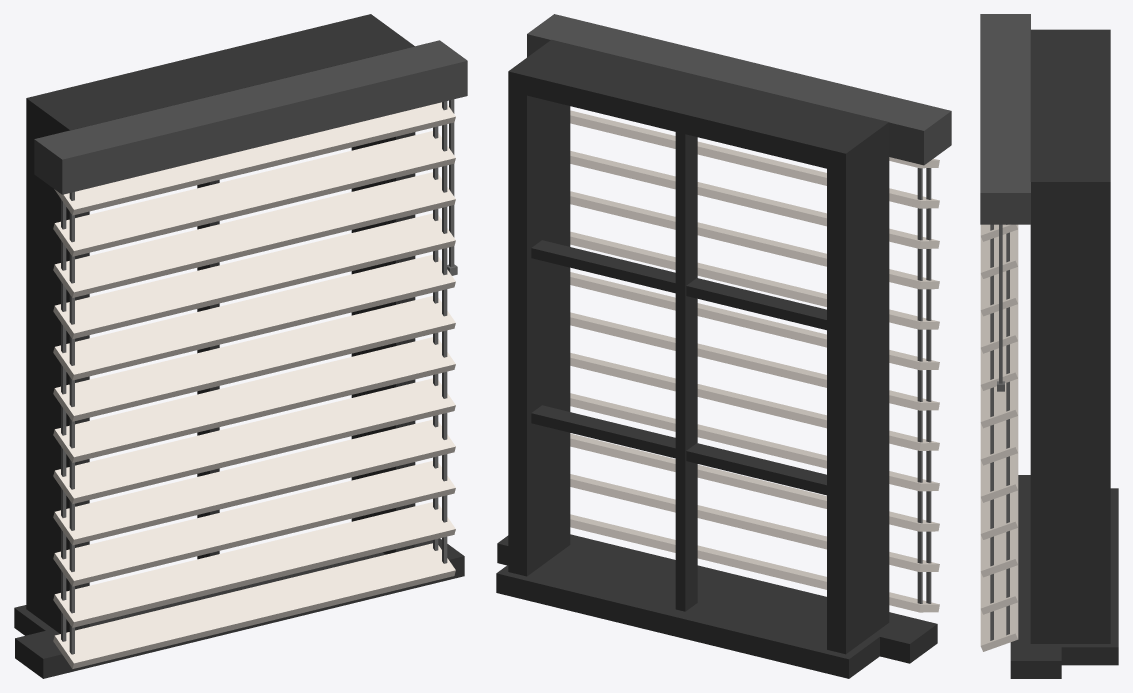
The model's file is window.fbx.
3 views of the same model, side by side, from view 1: azimuth 30°, elevation 25°; view 2: azimuth 150°, elevation 25°; view 3: azimuth 270°, elevation 25° (orthographic). The views are drawn at different scales.
Parts seen in each view (by area): view 1: Curtains1_C1, Window2_01; view 2: Window2_01, Curtains1_C1; view 3: Window2_01, Curtains1_C1.
Boxes of the visible parts, x1,y1,x2,y2 form: Curtains1_C1: (34,40,467,668); Window2_01: (14,14,464,678); Window2_01: (496,39,937,678); Curtains1_C1: (527,14,951,612); Window2_01: (1010,29,1118,678); Curtains1_C1: (980,14,1030,651).
Bounding box in the file's own units: 110 × 133 × 34.54.
